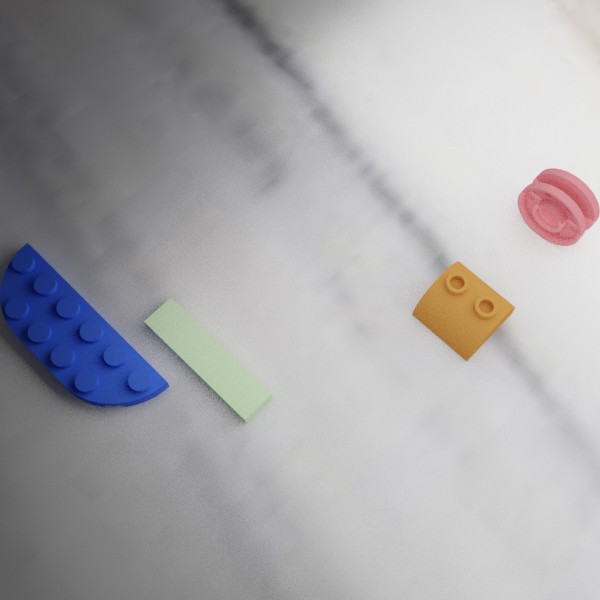lego: (0, 242, 169, 407), (143, 297, 272, 423), (412, 261, 515, 361), (517, 168, 599, 246)
